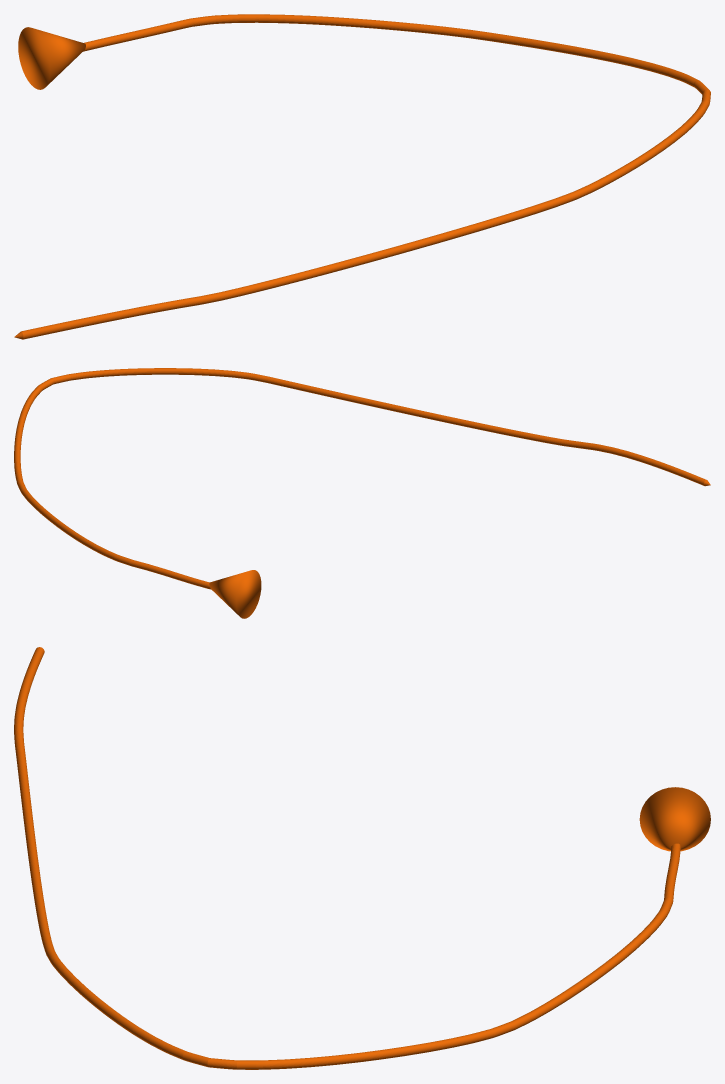
The model's file is Flagelo v10.glb.
The picture shows the model from 3 angles, top to bottom: view 1: azimuth 30°, elevation 25°; view 2: azimuth 150°, elevation 25°; view 3: azimuth 270°, elevation 25°; orthographic projection. The views are drawn at different scales.
Parts seen in each view (by area): view 1: Cone; view 2: Cone; view 3: Cone.
Part boxes in pixels (x1,y1,x2,y2): Cone: (14,14,710,339); Cone: (14,368,710,618); Cone: (14,647,710,1069).
Bounding box in the file's own units: 210 × 15.11 × 148.
